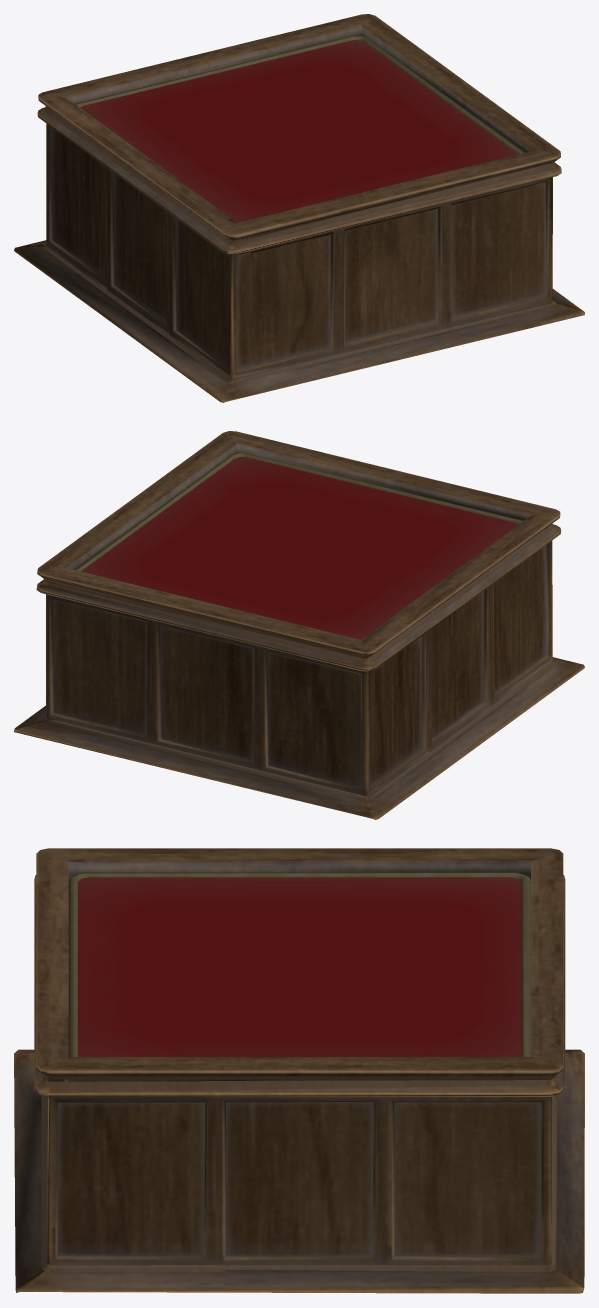
Rendered from case_baseonly.gltf.
The picture shows the model from 3 angles, top to bottom: view 1: azimuth 30°, elevation 25°; view 2: azimuth 150°, elevation 25°; view 3: azimuth 270°, elevation 25°; orthographic projection. The views are drawn at different scales.
Parts seen in each view (by area): view 1: SM_Large_Display_Case_low; view 2: SM_Large_Display_Case_low; view 3: SM_Large_Display_Case_low.
Part boxes in pixels (box(x1,y1,x2,y2)): SM_Large_Display_Case_low: box(14, 14, 584, 402); SM_Large_Display_Case_low: box(14, 431, 584, 819); SM_Large_Display_Case_low: box(14, 848, 584, 1293).
Bounding box in the file's own units: 158 × 65.38 × 158.
Materials: 1 (1 with a texture image).
